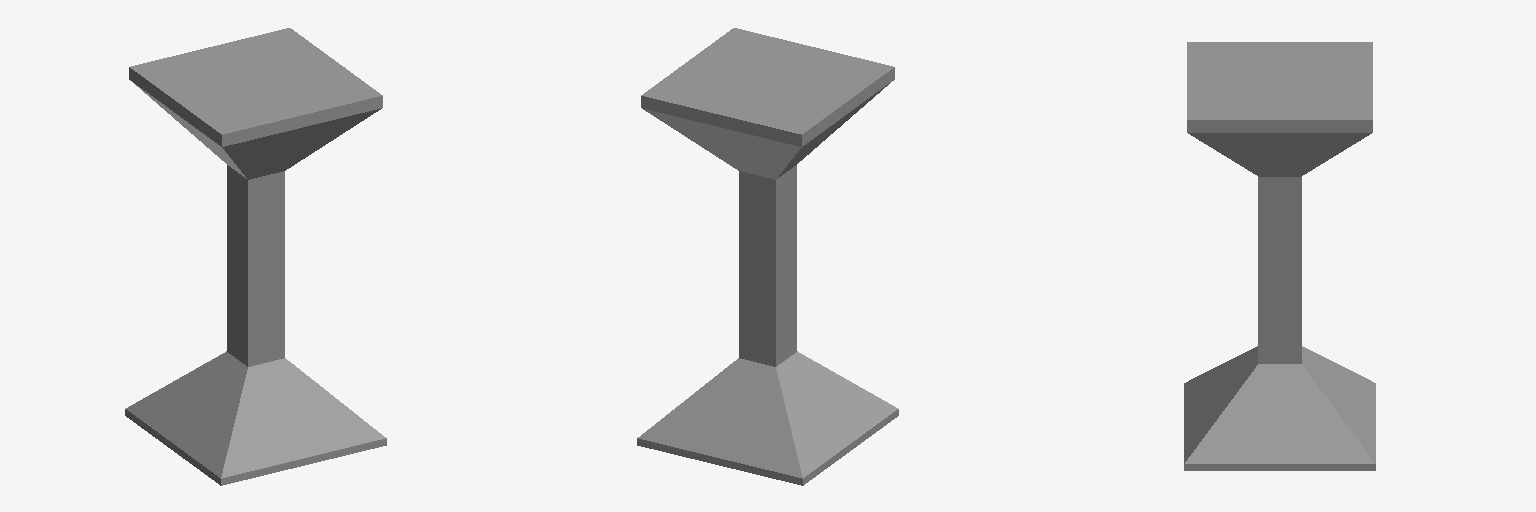
The model's file is modelOli.obj.
3 renders of one model, left to right at view 1: azimuth 30°, elevation 25°; view 2: azimuth 150°, elevation 25°; view 3: azimuth 270°, elevation 25°, orthographic.
Visible parts, largest first — view 1: Cube; view 2: Cube; view 3: Cube.
Part boxes in pixels (left/top/right/bottom): Cube: left=125, top=28, right=386, bottom=485; Cube: left=637, top=28, right=898, bottom=485; Cube: left=1184, top=42, right=1375, bottom=470.
Bounding box in the file's own units: 6 × 12.1 × 6.